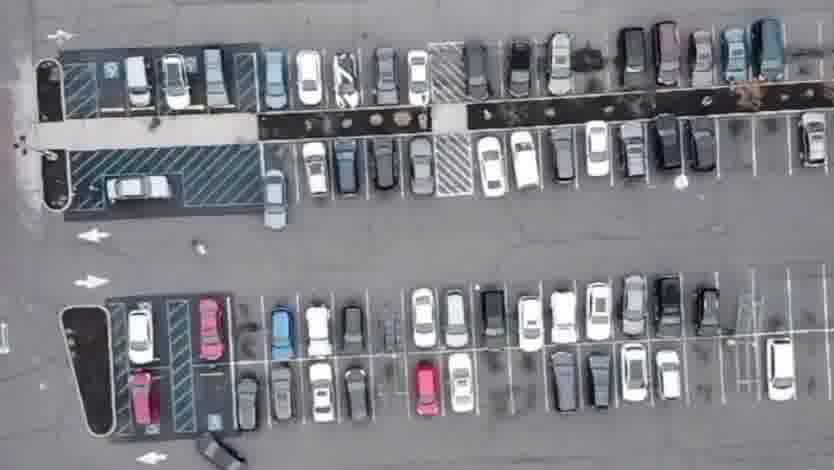car: (442, 352, 480, 419), (765, 340, 800, 410), (751, 20, 787, 85), (615, 29, 650, 94), (474, 136, 509, 201), (103, 175, 174, 207), (652, 23, 683, 92), (684, 118, 720, 177), (305, 364, 338, 428), (550, 354, 582, 420), (620, 348, 654, 410), (298, 139, 331, 202), (649, 116, 682, 179), (586, 353, 618, 416), (479, 291, 510, 356), (462, 40, 493, 104), (509, 134, 542, 194), (514, 297, 548, 355), (655, 279, 686, 342), (657, 349, 688, 412), (547, 129, 579, 190), (196, 295, 226, 360), (198, 432, 248, 470), (260, 169, 289, 234), (408, 285, 437, 350), (545, 32, 573, 99), (342, 364, 373, 424), (411, 363, 442, 423), (548, 291, 580, 349), (160, 56, 193, 112), (444, 288, 472, 354), (585, 284, 615, 345), (406, 137, 435, 199), (799, 116, 830, 174), (367, 136, 397, 195), (331, 138, 360, 199), (305, 301, 336, 358), (297, 50, 326, 110), (374, 48, 403, 108), (234, 371, 262, 433), (617, 125, 646, 184), (130, 368, 159, 427), (201, 50, 230, 108), (720, 30, 749, 88), (693, 288, 723, 344), (127, 306, 155, 365), (261, 50, 288, 111), (505, 41, 531, 104), (406, 48, 433, 108), (620, 273, 645, 337), (332, 51, 360, 108), (269, 364, 296, 423), (583, 123, 609, 184), (124, 55, 153, 108), (265, 306, 294, 359), (690, 31, 715, 92), (342, 305, 366, 358)
